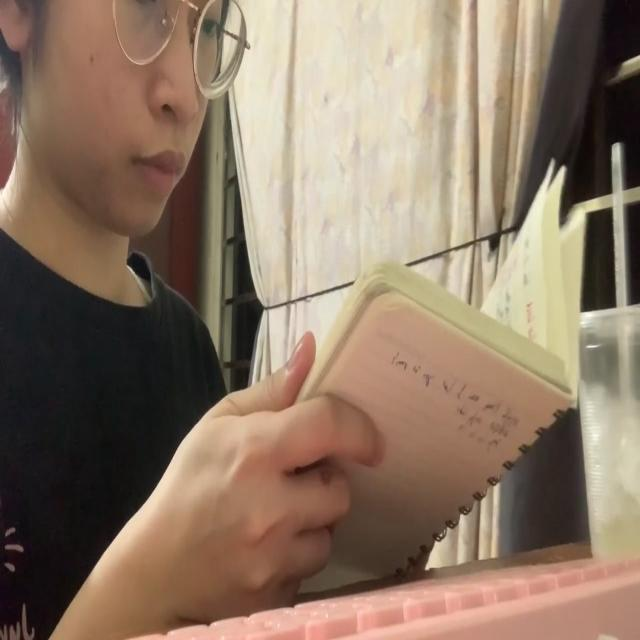book: (296, 152, 586, 582)
student: (0, 0, 386, 640)
